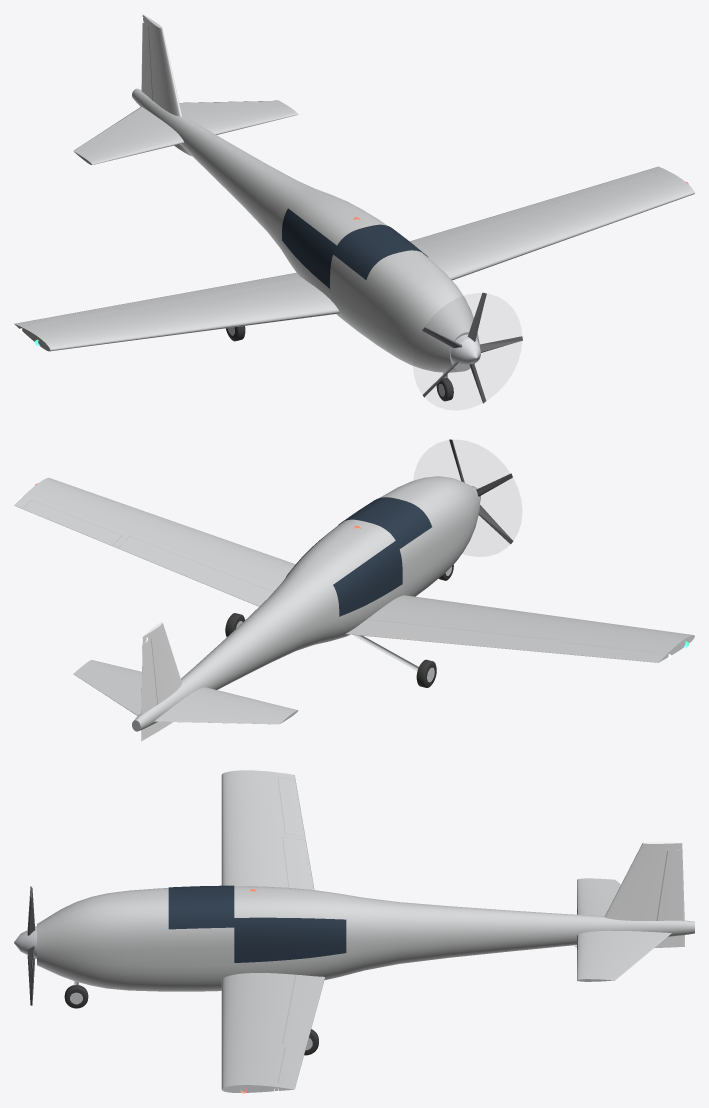
3 views of the same model, one above another, from view 1: azimuth 30°, elevation 25°; view 2: azimuth 150°, elevation 25°; view 3: azimuth 270°, elevation 25° (orthographic).
Parts seen in each view (by area): view 1: airframe, prop; view 2: airframe, gear, prop; view 3: airframe, gear, prop.
Part boxes in pixels (x1,y1,x2,y2): airframe: (14,14,694,372); prop: (422,292,522,403); airframe: (14,476,694,741); gear: (225,565,453,687); prop: (449,439,513,544); airframe: (14,770,694,1093); gear: (64,981,318,1055); prop: (27,886,35,1005).
Size of the model in its own units: 16.52 by 3.97 by 14.9.
